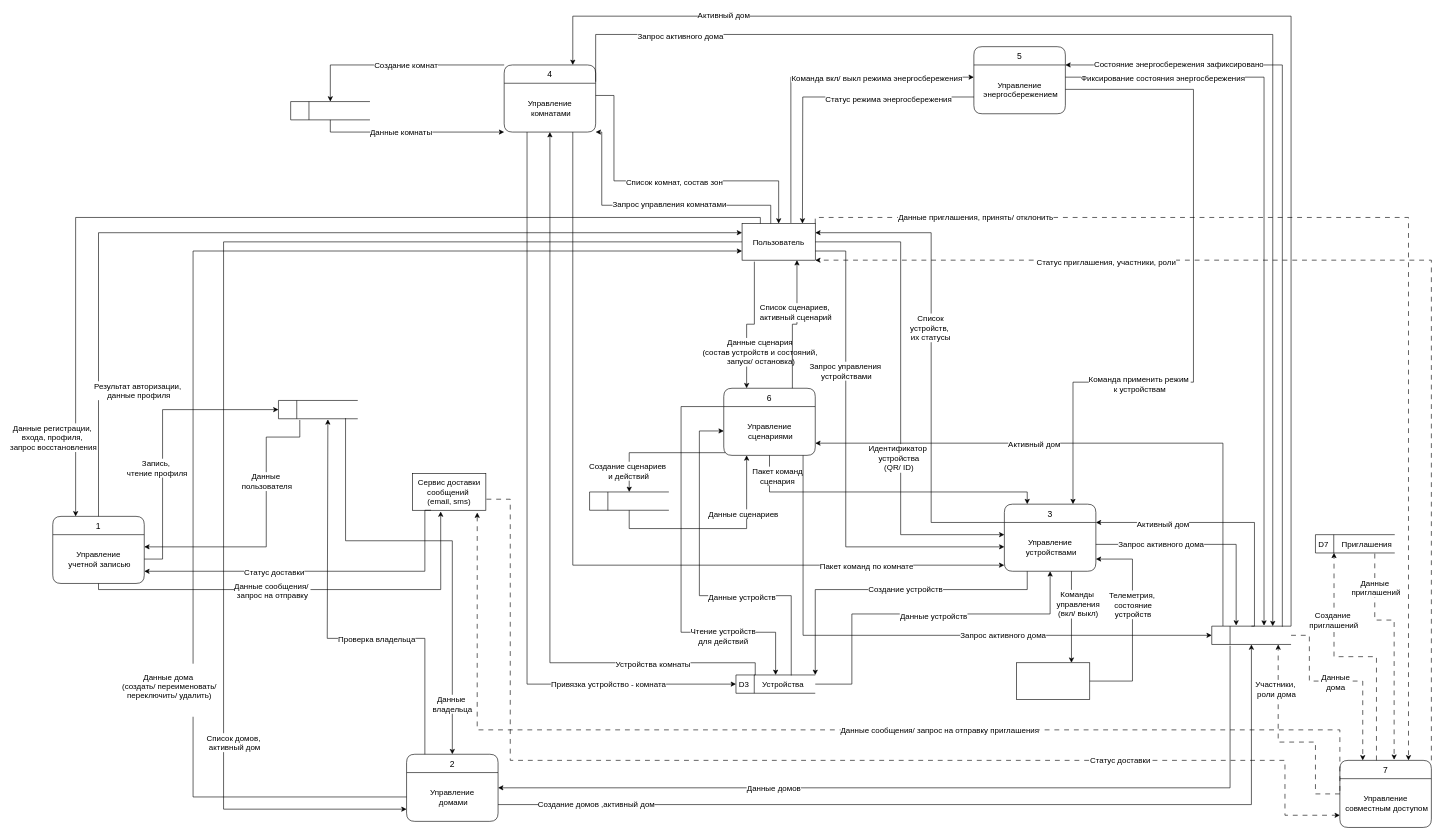
Image size: 1448x838. Some labels were removed from this diagram. Here are the shapes that lost their labels. From the top down, the centre of each, then its label:
At (330,110): "D4 Комнаты".
At (318,409): "D1 Пользователи".
At (629,500): "D5 Сценарии".
At (1251,635): "D2 Дом".
At (1053,680): "Устройства умного дома".
